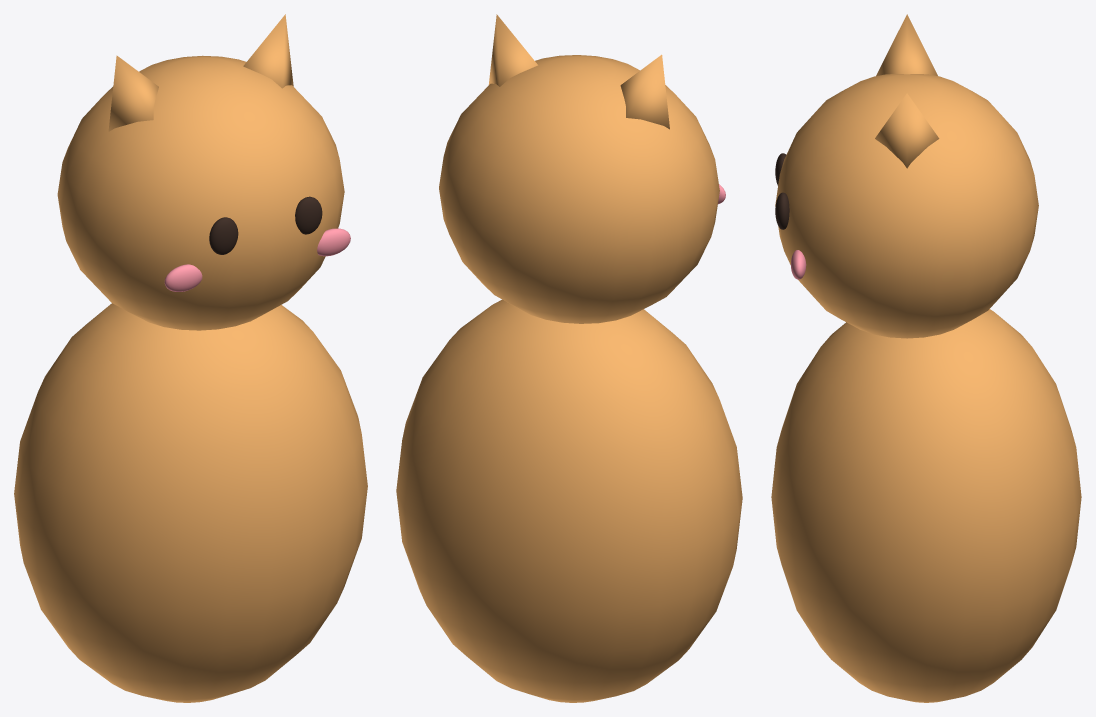
File: Customer_Cat.fbx
3 renders of one model, left to right at view 1: azimuth 30°, elevation 25°; view 2: azimuth 150°, elevation 25°; view 3: azimuth 270°, elevation 25°, orthographic. The views are drawn at different scales.
Visible parts, largest first — view 1: Customer_Cat; view 2: Customer_Cat; view 3: Customer_Cat.
Boxes of the visible parts, <box> form: Customer_Cat: <box>14,14,367,702</box>; Customer_Cat: <box>396,14,742,702</box>; Customer_Cat: <box>771,14,1081,702</box>.
Bounding box in the file's own units: 0.9 × 1.81 × 0.8.
